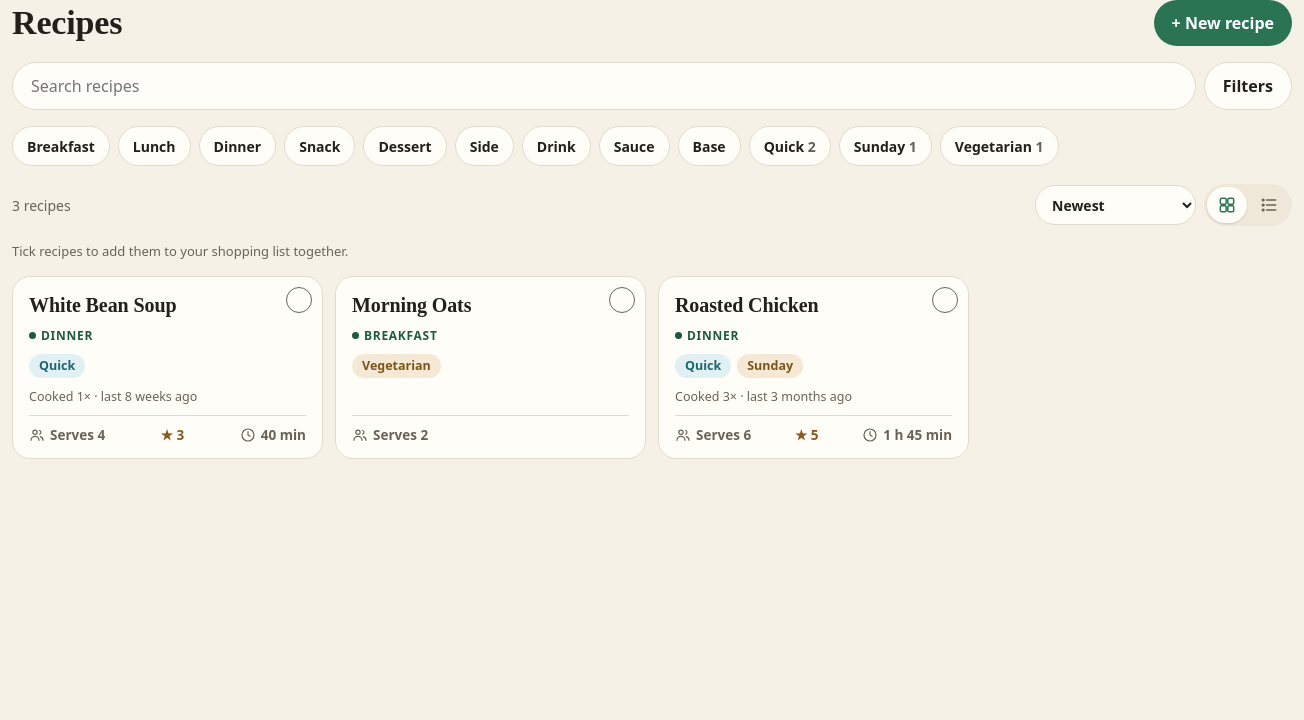
it: Library › adds selected recipes to the shopping list at their base servings
The width and height of the screenshot is (1304, 720).
Step 1. Click the checkbox named "Select White Bean Soup" → [299, 300], box [286, 287, 312, 313]
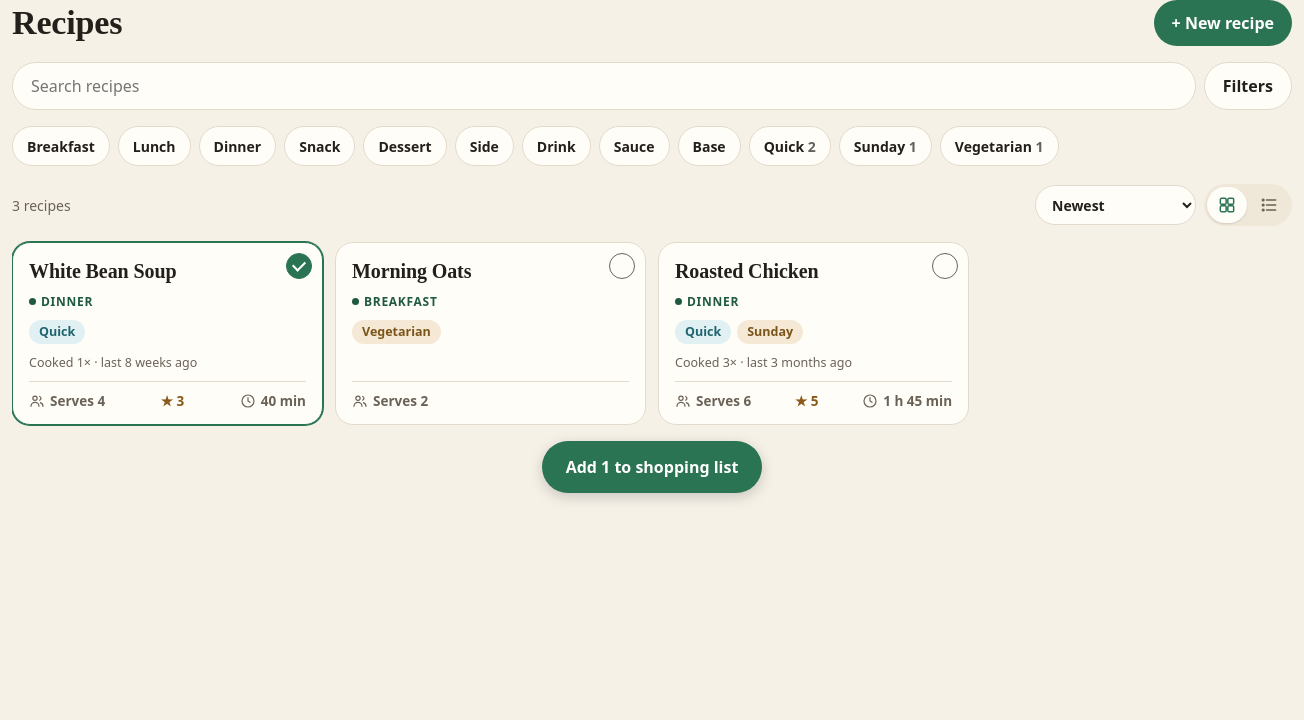
Step 2. Click the button "Add 1 to shopping list" → [652, 466], box [542, 440, 762, 492]
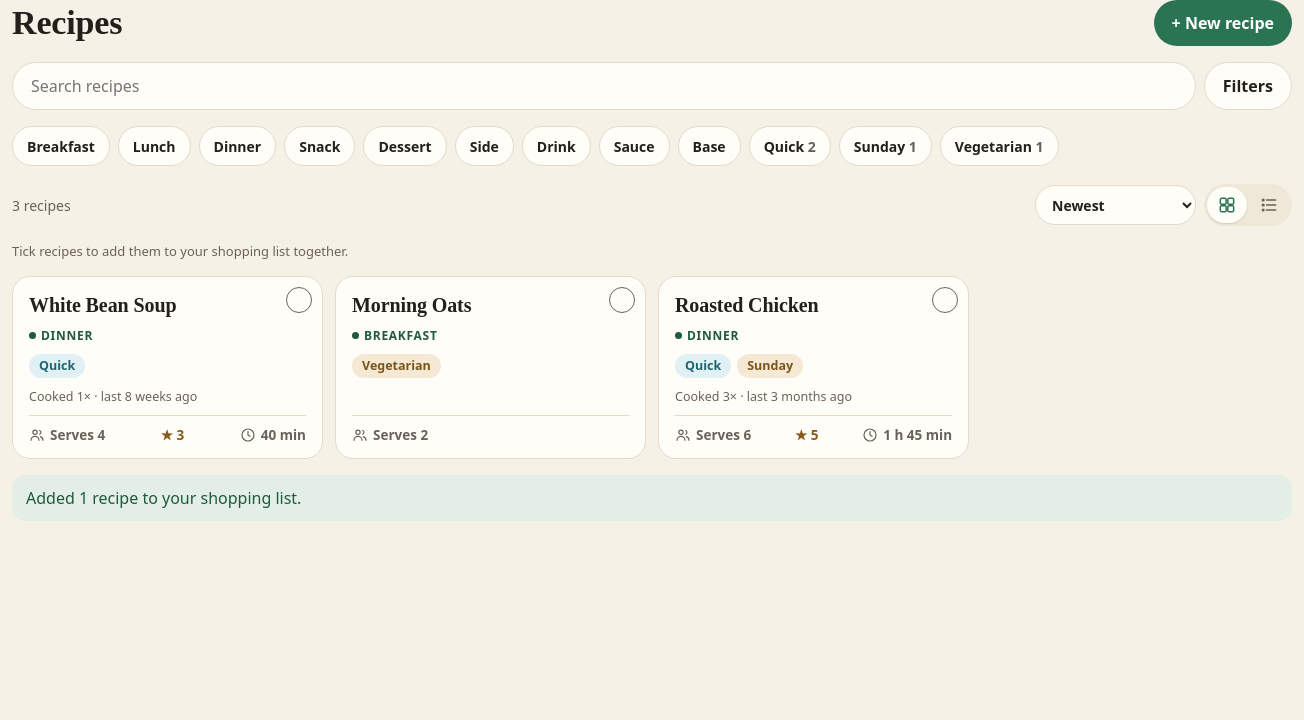
Check: the message shows "Added 1 recipe", box [26, 486, 301, 508]
